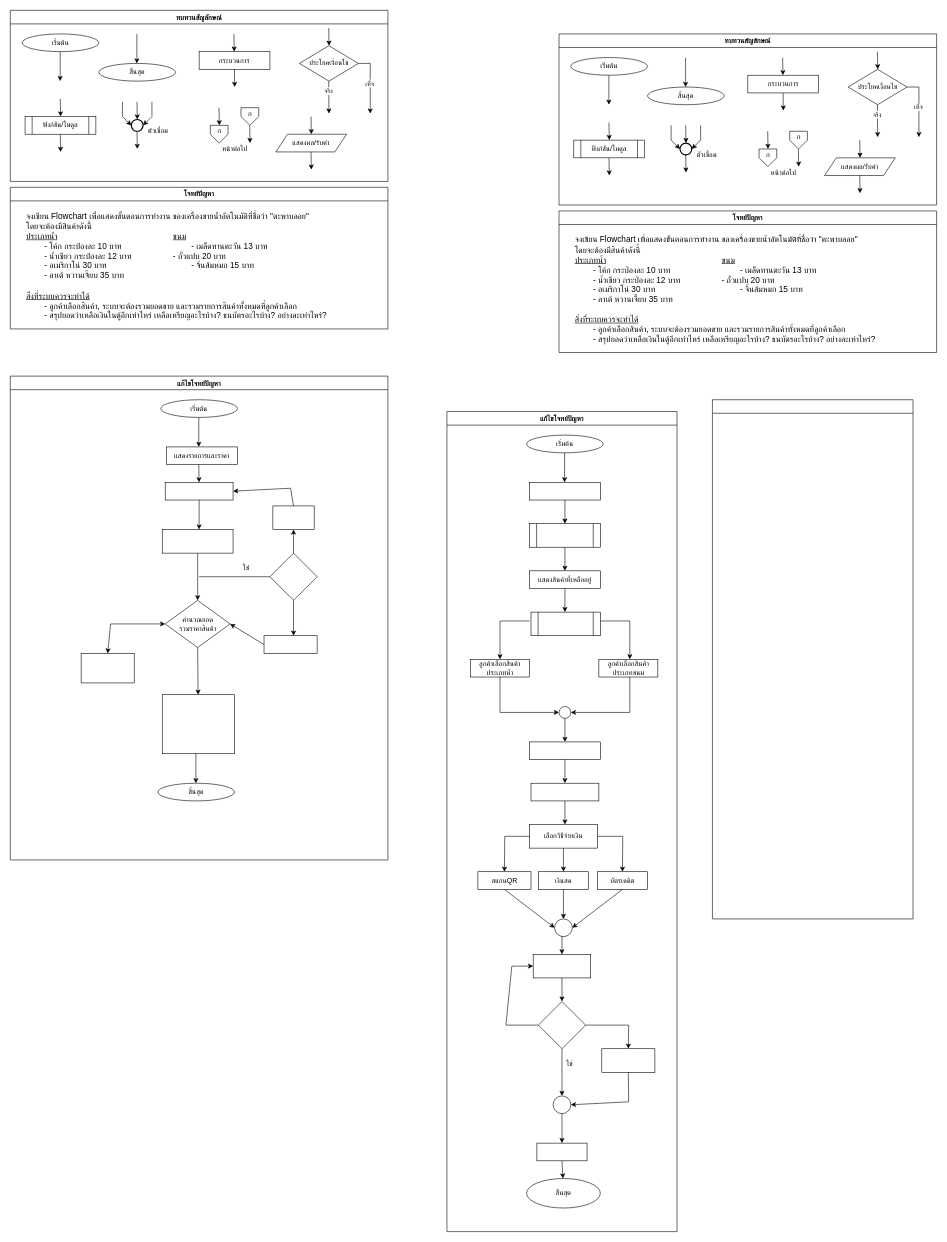
Image size: 947x1242. Some labels were removed from this diagram. Each missing label, with the box of its shape:
Vertical Container: (712, 399, 913, 919)
คำนวณราคารวมทั้งหมด: (529, 741, 600, 760)
จ่ายสินค้าให้: (536, 1143, 587, 1161)
ตรวจสอบสินค้า: (529, 523, 600, 547)
ทอนเงิน: (601, 1048, 655, 1072)
มีเพียงพอ: (263, 635, 317, 653)
รายการสินค้าที่ซื้อยอดรวมเงินทอน (เหรียญ/ธนบัตร)ยอดคงเหลือในตู้แยกตามประเภทเงิน: (162, 694, 235, 754)
ลูกค้าจ่ายเงิน: (533, 954, 591, 978)
ลูกค้าเข้าใช้งาน: (529, 482, 600, 500)
ลูกค้าเลือกสินค้าได้หลายชิ้น: (162, 529, 233, 553)
ลูกค้าใส่เงิน (เหรียญ/บัตร): (165, 482, 233, 500)
หักยอดเงิน + จ่ายสินค้า: (81, 653, 134, 683)
เงินพอหรือไม่: (538, 1001, 586, 1049)
เงินลูกค้าเพียงพอหรือไม่: (269, 553, 317, 600)
เลือกสินค้า: (530, 612, 600, 636)
แสดงราคารวมสินค้า: (530, 783, 599, 801)
ไม่พอ: (272, 505, 314, 530)
